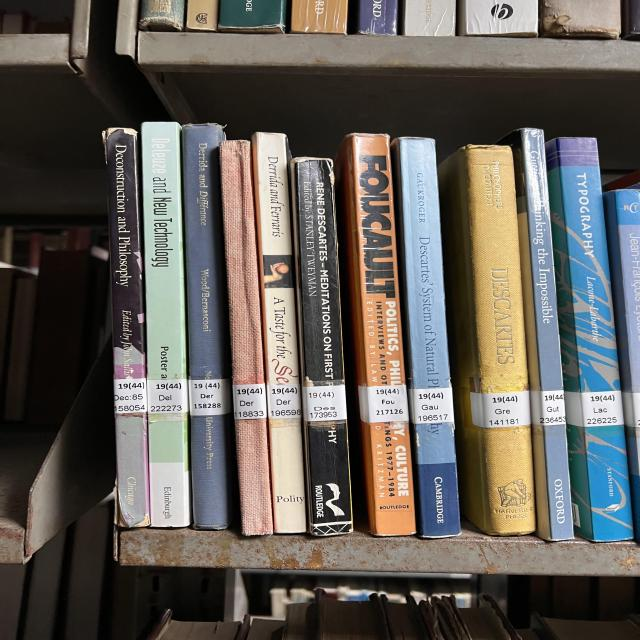Book: (440, 145, 535, 535), (545, 138, 633, 541), (337, 134, 415, 536), (498, 128, 573, 541), (392, 138, 460, 539), (292, 158, 353, 536), (252, 132, 307, 534), (220, 140, 273, 536), (182, 124, 233, 530), (142, 122, 192, 528), (103, 129, 150, 528)
Label: (470, 391, 530, 428), (565, 390, 623, 428), (358, 385, 408, 422), (188, 379, 232, 416), (302, 385, 347, 421), (410, 388, 453, 424), (147, 379, 188, 414), (530, 390, 565, 426), (267, 384, 302, 419), (113, 378, 147, 414), (233, 384, 267, 419)
